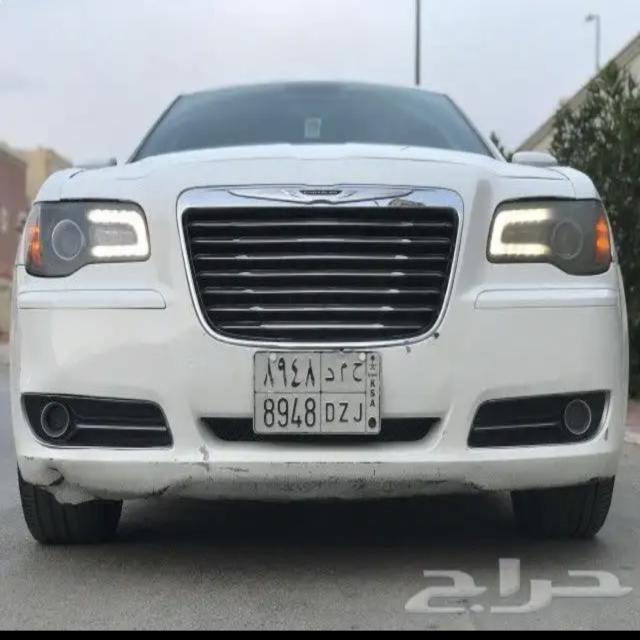license_plate: (252, 346, 384, 434)
